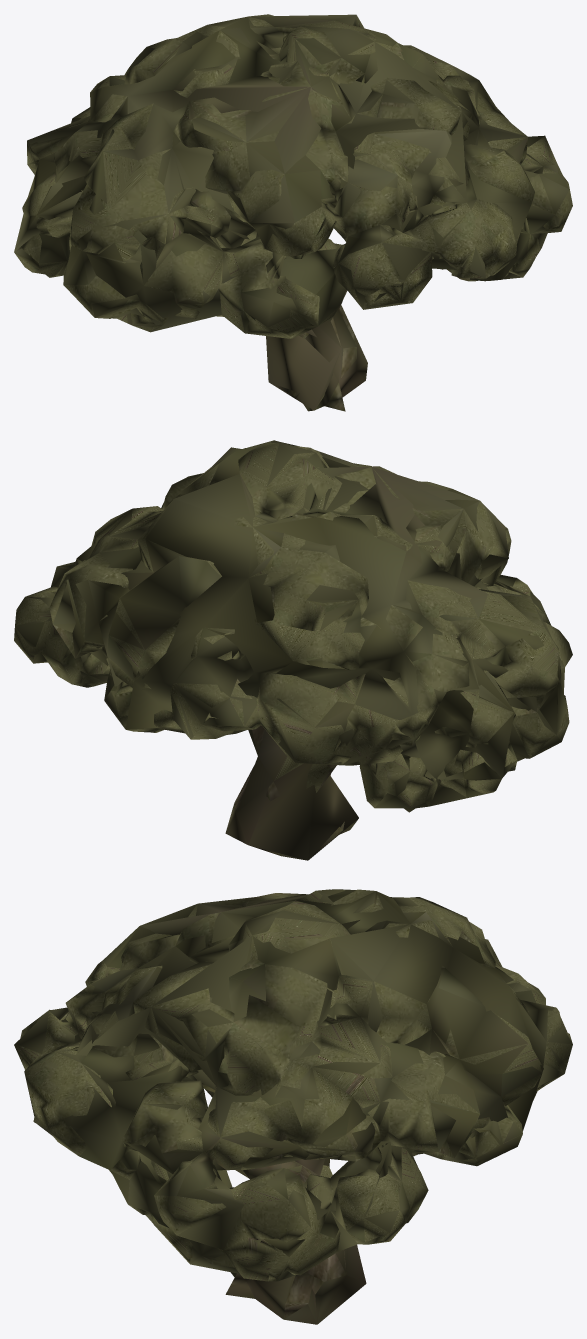
The model's file is encina.glb.
3 renders of one model, top to bottom at view 1: azimuth 30°, elevation 25°; view 2: azimuth 150°, elevation 25°; view 3: azimuth 270°, elevation 25°, orthographic. The views are drawn at different scales.
Parts seen in each view (by area): view 1: cerca, medio, lejos; view 2: cerca, medio, lejos; view 3: cerca, medio, lejos.
Part boxes in pixels (x1,y1,x2,y2): cerca: (14,14,572,411); medio: (14,15,569,410); lejos: (14,14,554,410); cerca: (14,440,572,860); medio: (14,440,572,850); lejos: (17,456,564,860); cerca: (14,889,572,1324); medio: (14,889,572,1324); lejos: (30,889,546,1323).
Bounding box in the file's own units: 7.72 × 5.5 × 7.13.
2 materials, 1 textured.
